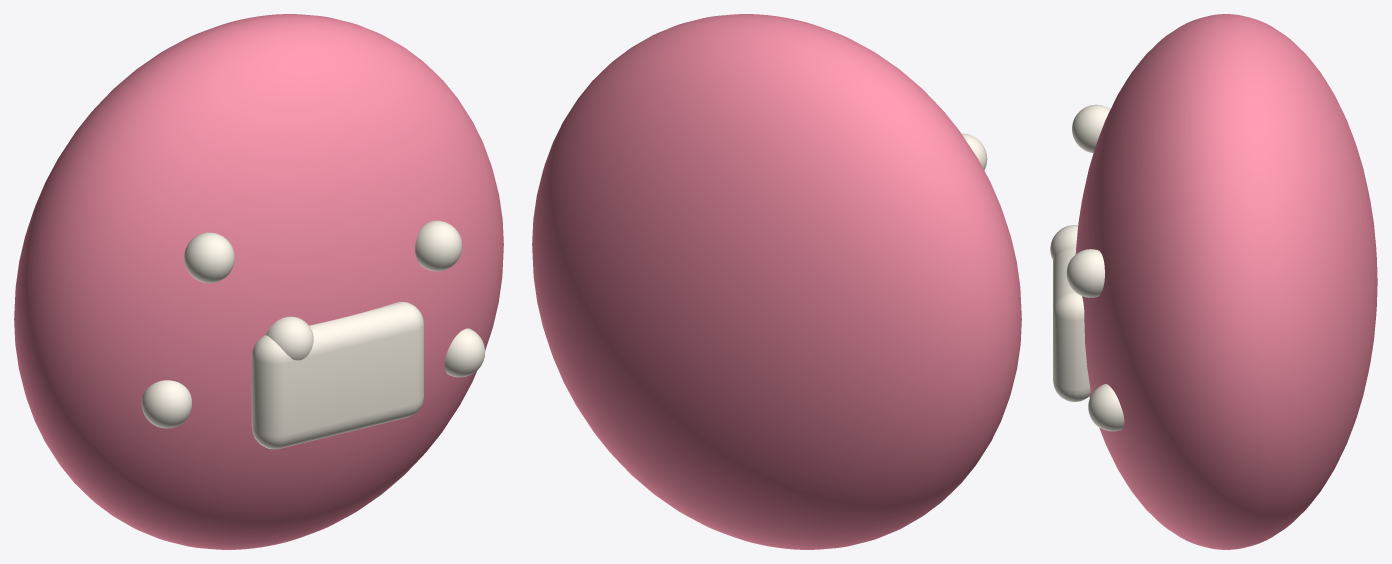
The model's file is Costume_FlowerApron.fbx.
3 renders of one model, left to right at view 1: azimuth 30°, elevation 25°; view 2: azimuth 150°, elevation 25°; view 3: azimuth 270°, elevation 25°, orthographic. The views are drawn at different scales.
Visible parts, largest first — view 1: Hamster_CoinLook_Apron, Hamster_CoinLook_ApronPocket, Hamster_CoinLook_ApronDot (×5); view 2: Hamster_CoinLook_Apron; view 3: Hamster_CoinLook_Apron, Hamster_CoinLook_ApronDot (×4), Hamster_CoinLook_ApronPocket.
Boxes of the visible parts, x1,y1,x2,y2 form: Hamster_CoinLook_Apron: (14,14,503,549); Hamster_CoinLook_ApronPocket: (251,301,423,449); Hamster_CoinLook_ApronDot (×5): (141,220,485,428); Hamster_CoinLook_Apron: (532,14,1021,549); Hamster_CoinLook_Apron: (1075,14,1377,549); Hamster_CoinLook_ApronDot (×4): (1050,104,1124,431); Hamster_CoinLook_ApronPocket: (1053,248,1090,401).
Size of the model in its own units: 9.5 by 10 by 6.05.
